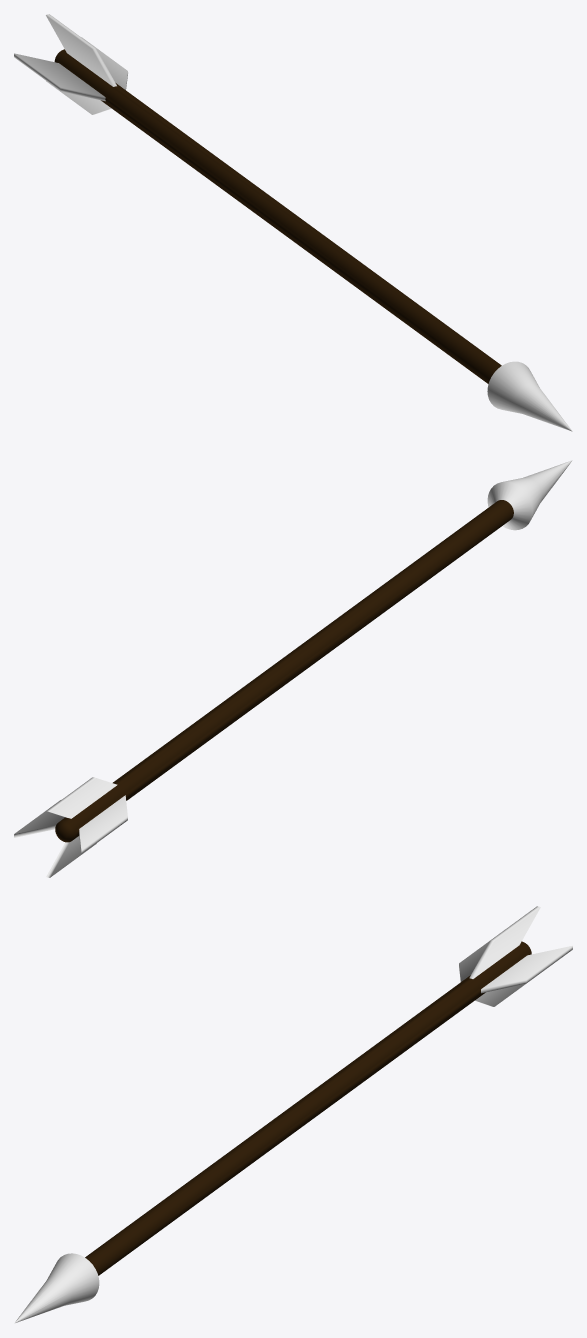
File: projectile.fbx
3 renders of one model, top to bottom at view 1: azimuth 30°, elevation 25°; view 2: azimuth 150°, elevation 25°; view 3: azimuth 330°, elevation 25°, orthographic.
Visible parts, largest first — view 1: Cylinder; view 2: Cylinder; view 3: Cylinder.
Boxes of the visible parts, box(x1,y1,x2,y2) form: Cylinder: box(14, 14, 572, 431); Cylinder: box(14, 460, 572, 877); Cylinder: box(14, 906, 572, 1323).
Size of the model in its own units: 20.99 by 19.64 by 282.
